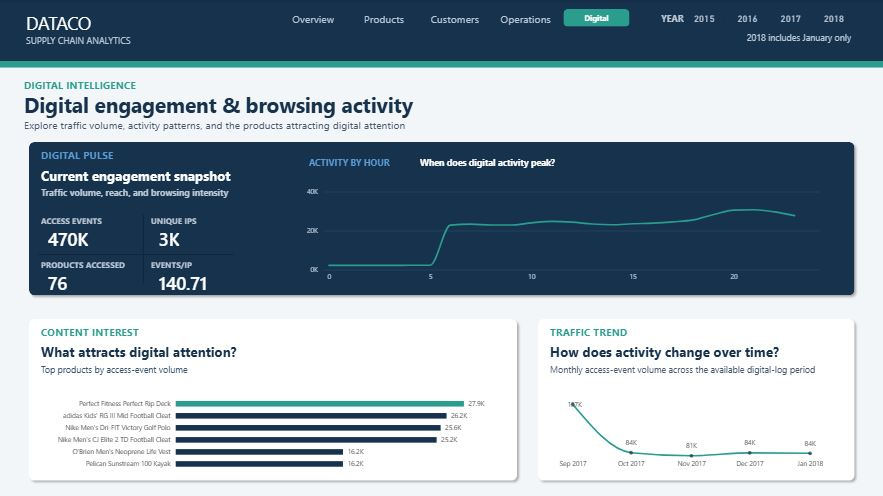

Layout of this report page (visuals, bound fields, positions):
{"tool":"powerbi","page":{"name":"Digital","canvas":[1600,900],"ordinal":4},"visuals":[{"type":"shape","box":[0,0,1599.4,117.5],"z":0},{"type":"shape","box":[0,112,1599.4,12],"z":1000},{"type":"textbox","box":[48,22,500,65],"z":2000},{"type":"pageNavigator","box":[507.8,18,632.5,32.5],"z":3000},{"type":"textbox","box":[1195,25,45,30],"z":4000},{"type":"advancedSlicerVisual","fields":{"Values":["Dates.Year"]},"box":[1240,18,305,36],"z":5000},{"type":"textbox","box":[1330,60,210,21],"z":6000},{"type":"textbox","box":[45,142,340,28],"z":6001},{"type":"textbox","box":[45,167,760,49],"z":6002},{"type":"textbox","box":[45,215,900,30],"z":6003},{"type":"shape","box":[45,250,1510,295],"z":6004},{"type":"textbox","box":[75,270,220,28],"z":6005},{"type":"textbox","box":[75,304,360,34],"z":6006},{"type":"textbox","box":[75,340,500,24],"z":6007},{"type":"textbox","box":[75,390,180,21],"z":6008},{"type":"cardVisual","fields":{"Data":["_Measures.Access Events"]},"box":[72,412,180,40],"z":6009},{"type":"textbox","box":[275,390,180,21],"z":6010},{"type":"cardVisual","fields":{"Data":["_Measures.Unique IPs"]},"box":[272,412,180,40],"z":6011},{"type":"textbox","box":[75,470,180,21],"z":6012},{"type":"cardVisual","fields":{"Data":["_Measures.Products Accessed"]},"box":[72,492,180,40],"z":6013},{"type":"textbox","box":[275,470,180,21],"z":6014},{"type":"cardVisual","fields":{"Data":["_Measures.Events per IP"]},"box":[272,492,180,40],"z":6015},{"type":"shape","box":[255,388,12,125],"z":6016},{"type":"shape","box":[70.5,453.6,354.2,16.3],"z":6017},{"type":"lineChart","fields":{"Category":["AccessLogs.Hour"],"Y":["_Measures.Access Events"]},"box":[540,325,960,205],"z":6018},{"type":"textbox","box":[560,285,300,24],"z":6019},{"type":"textbox","box":[760,285,380,24],"z":6020},{"type":"shape","box":[45,570,900,310],"z":6021},{"type":"shape","box":[965,570,590,310],"z":6022},{"type":"textbox","box":[75,590,240,25],"z":6023},{"type":"textbox","box":[75,622,390,34],"z":6024},{"type":"textbox","box":[75,660,460,24],"z":6025},{"type":"clusteredBarChart","fields":{"Category":["AccessLogs.product"],"Y":["_Measures.Access Events"]},"box":[75,695,820,175],"z":6026},{"type":"textbox","box":[995,590,220,25],"z":6027},{"type":"textbox","box":[995,622,430,34],"z":6028},{"type":"textbox","box":[995,660,480,42],"z":6029},{"type":"lineChart","fields":{"Category":["Dates.Month Start"],"Y":["_Measures.Access Events"]},"box":[995,705,510,165],"z":6030}]}

Visuals, with their boxes in screenshot pixels (x1, y1, x2, y2), scaled from the page's 1600x900 canvas onto the 883x496 screenshot:
shape: bbox(0, 0, 882, 65)
shape: bbox(0, 62, 882, 68)
textbox: bbox(26, 12, 302, 48)
pageNavigator: bbox(280, 10, 629, 28)
textbox: bbox(659, 14, 684, 30)
advancedSlicerVisual - Dates.Year: bbox(684, 10, 853, 30)
textbox: bbox(734, 33, 850, 45)
textbox: bbox(25, 78, 212, 94)
textbox: bbox(25, 92, 444, 119)
textbox: bbox(25, 118, 522, 135)
shape: bbox(25, 138, 858, 300)
textbox: bbox(41, 149, 163, 164)
textbox: bbox(41, 168, 240, 186)
textbox: bbox(41, 187, 317, 201)
textbox: bbox(41, 215, 141, 227)
cardVisual - _Measures.Access Events: bbox(40, 227, 139, 249)
textbox: bbox(152, 215, 251, 227)
cardVisual - _Measures.Unique IPs: bbox(150, 227, 249, 249)
textbox: bbox(41, 259, 141, 271)
cardVisual - _Measures.Products Accessed: bbox(40, 271, 139, 293)
textbox: bbox(152, 259, 251, 271)
cardVisual - _Measures.Events per IP: bbox(150, 271, 249, 293)
shape: bbox(141, 214, 147, 283)
shape: bbox(39, 250, 234, 259)
lineChart - AccessLogs.Hour x _Measures.Access Events: bbox(298, 179, 828, 292)
textbox: bbox(309, 157, 475, 170)
textbox: bbox(419, 157, 629, 170)
shape: bbox(25, 314, 522, 485)
shape: bbox(533, 314, 858, 485)
textbox: bbox(41, 325, 174, 339)
textbox: bbox(41, 343, 257, 362)
textbox: bbox(41, 364, 295, 377)
clusteredBarChart - AccessLogs.product x _Measures.Access Events: bbox(41, 383, 494, 479)
textbox: bbox(549, 325, 671, 339)
textbox: bbox(549, 343, 786, 362)
textbox: bbox(549, 364, 814, 387)
lineChart - Dates.Month Start x _Measures.Access Events: bbox(549, 389, 831, 479)
